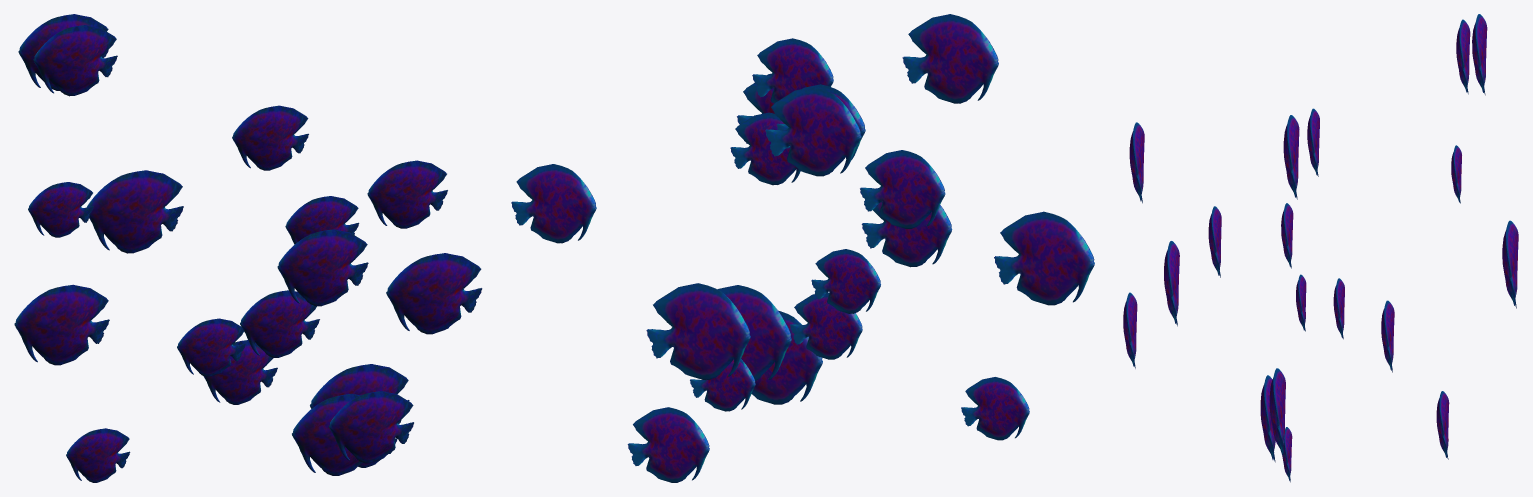
The model's file is Fish_BAKE_LP_002.gltf.
3 views of the same model, side by side, from view 1: azimuth 30°, elevation 25°; view 2: azimuth 150°, elevation 25°; view 3: azimuth 270°, elevation 25° (orthographic). The views are drawn at different scales.
Visible parts, largest first — view 1: Subdivision Surface (×17); view 2: Subdivision Surface (×18); view 3: Subdivision Surface (×17).
Part boxes in pixels (x1,y1,x2,y2): Subdivision Surface (×17): (14,14,482,482); Subdivision Surface (×18): (511,14,1094,482); Subdivision Surface (×17): (1123,14,1518,462).
Bounding box in the file's own units: 169 × 141 × 134.
Materials: 1 (1 with a texture image).
